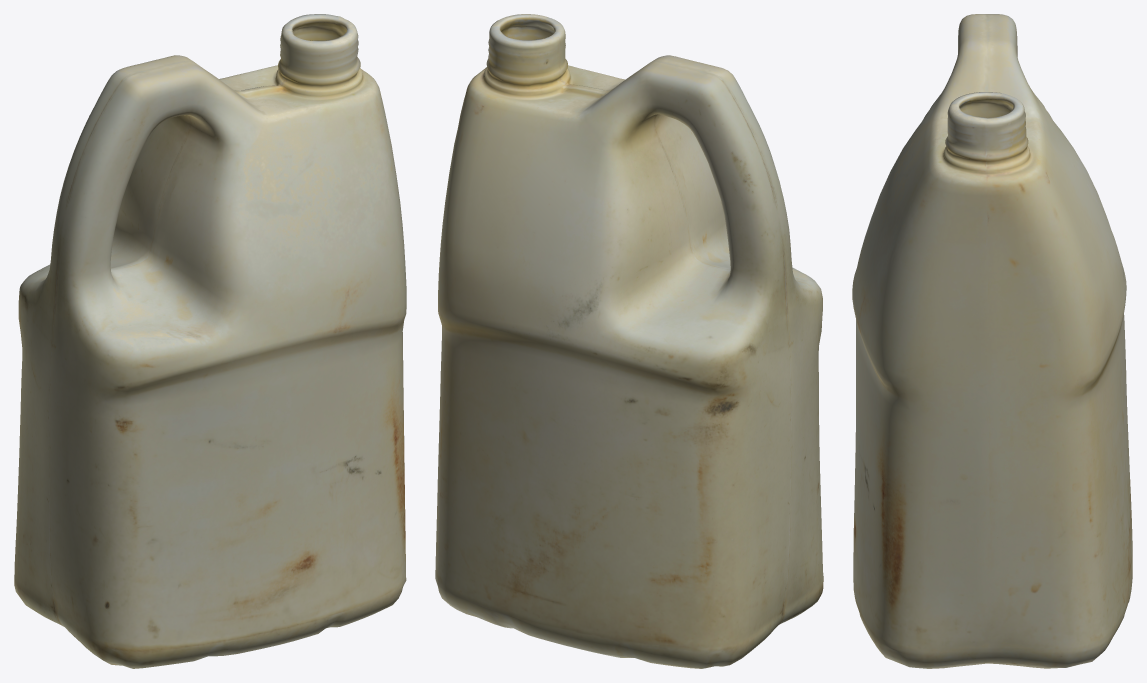
File: plastic_bottle_gallon.gltf
3 renders of one model, left to right at view 1: azimuth 30°, elevation 25°; view 2: azimuth 150°, elevation 25°; view 3: azimuth 270°, elevation 25°, orthographic.
Parts seen in each view (by area): view 1: plastic_bottle_gallon; view 2: plastic_bottle_gallon; view 3: plastic_bottle_gallon.
Part boxes in pixels (bbox=[...]): plastic_bottle_gallon: bbox=[14, 14, 406, 668]; plastic_bottle_gallon: bbox=[435, 14, 823, 668]; plastic_bottle_gallon: bbox=[852, 14, 1132, 668].
Size of the model in its own units: 0.1663 by 0.2745 by 0.1264.
Materials: 1 (1 with a texture image).
